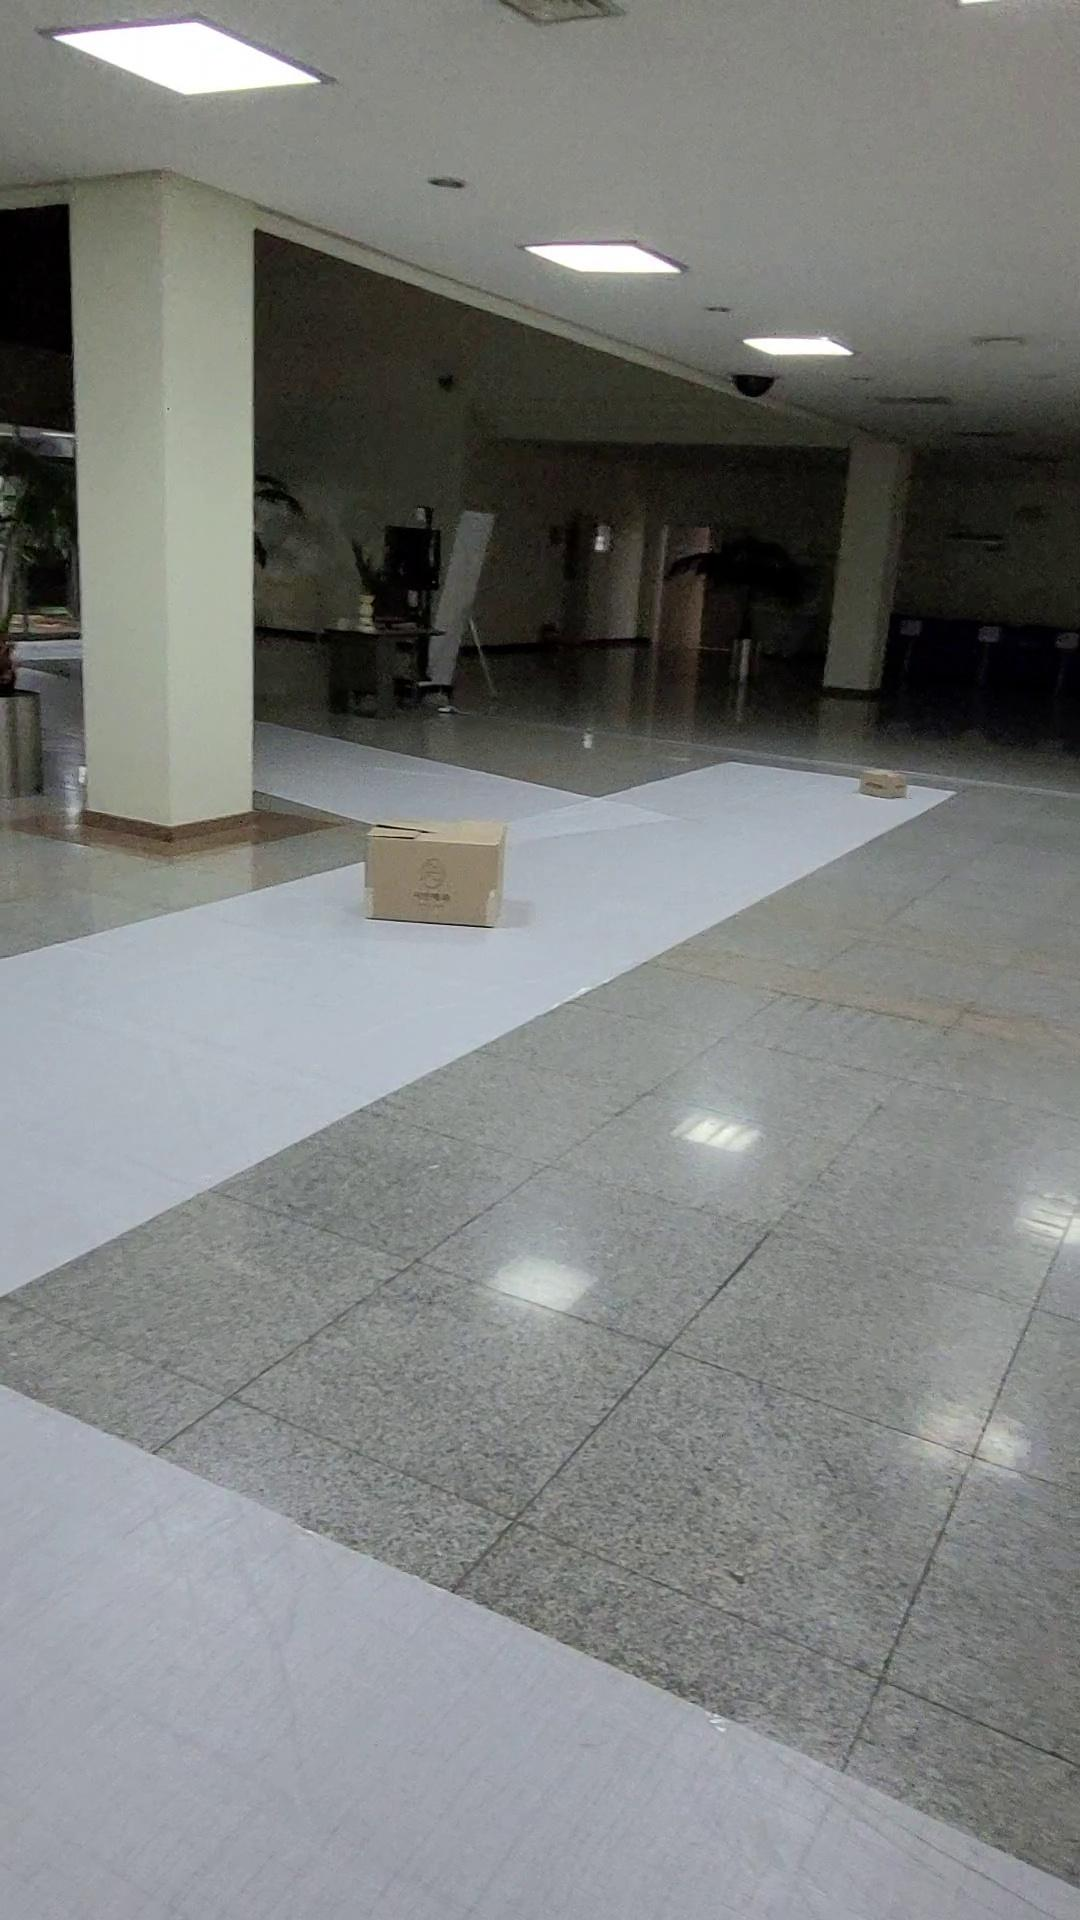Box: (336, 778, 545, 978), (828, 745, 947, 843)
